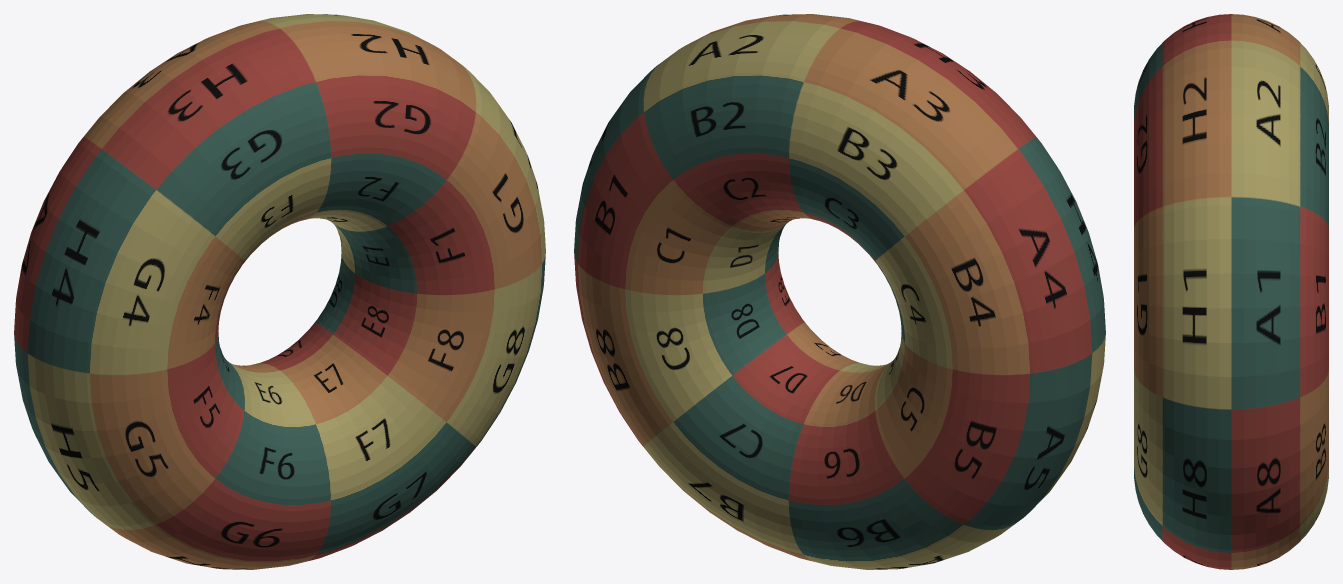
File: texture_torus_R12_r29.glb
The picture shows the model from 3 angles, left to right: view 1: azimuth 30°, elevation 25°; view 2: azimuth 150°, elevation 25°; view 3: azimuth 270°, elevation 25°; orthographic projection. The views are drawn at different scales.
Parts seen in each view (by area): view 1: world; view 2: world; view 3: world.
Boxes of the visible parts, x1,y1,x2,y2 form: world: (14,14,545,569); world: (574,14,1105,569); world: (1134,14,1328,569).
Size of the model in its own units: 27.73 by 27.68 by 9.71.
1 material, 1 textured.
